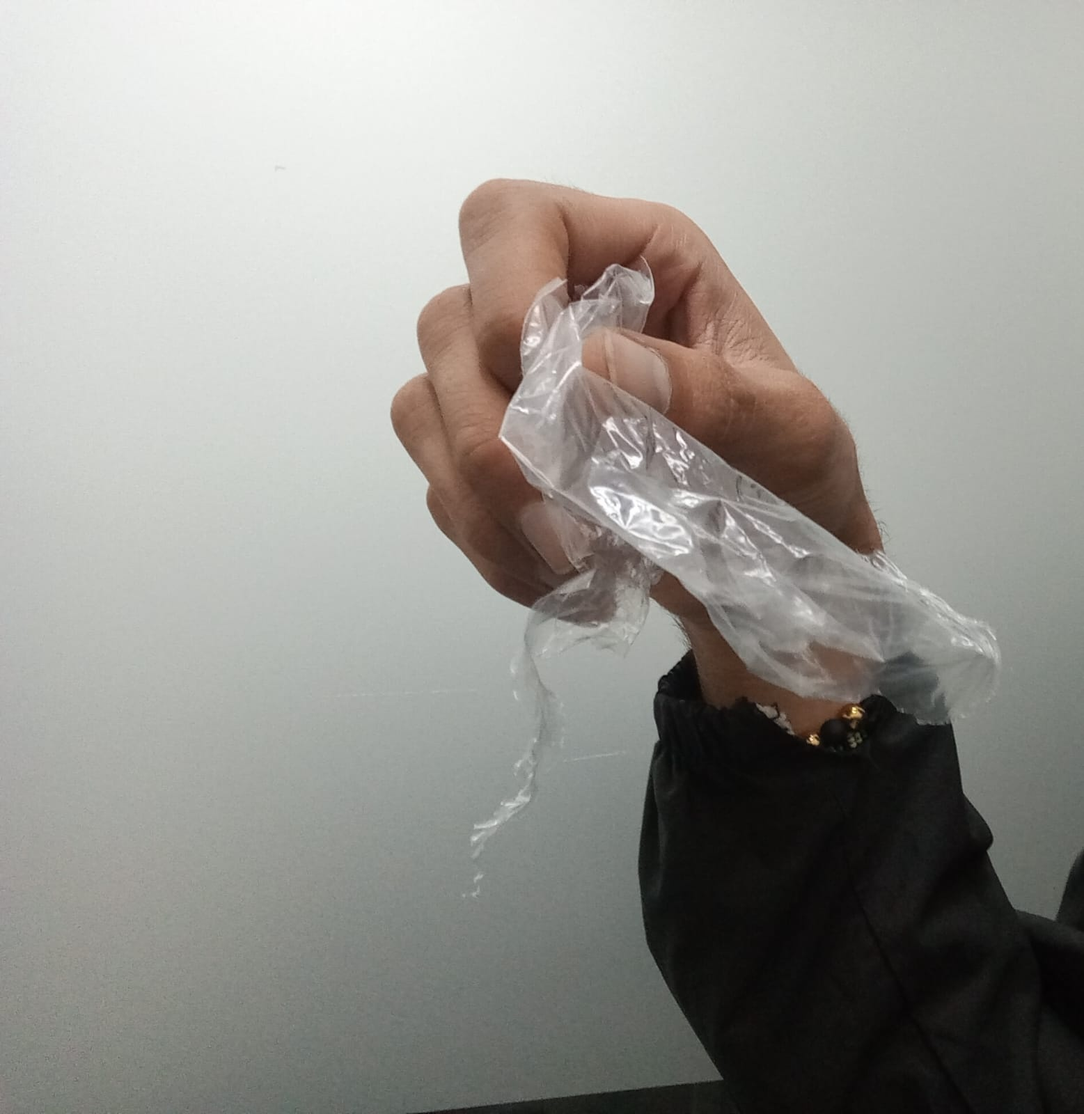Plastico: (499, 259, 1001, 727)
